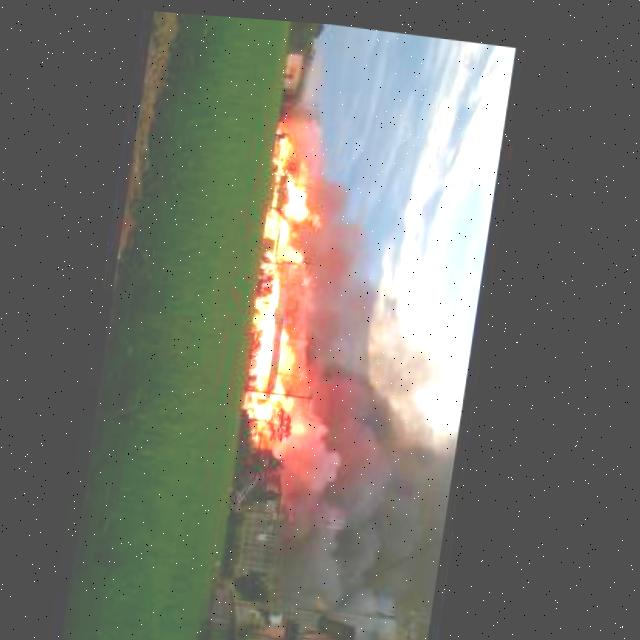Fire: (240, 109, 358, 453)
Smoke: (280, 184, 497, 640)
